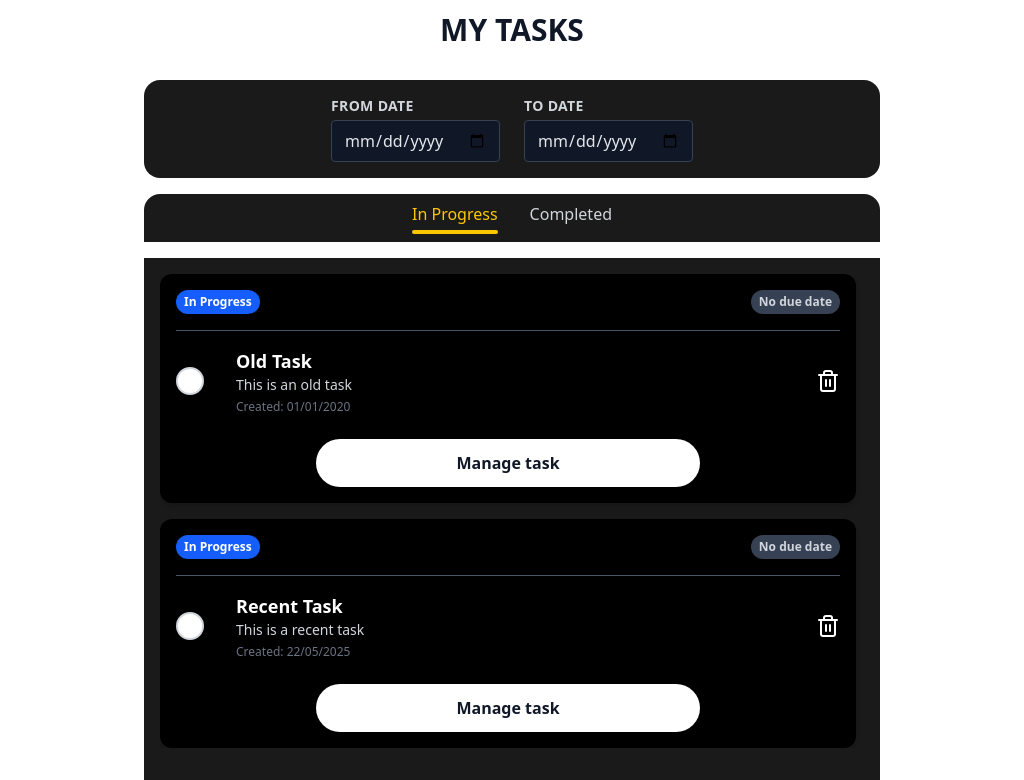
Test: Filters the list by created date
Expected: the heading "Old Task" is shown, [236,349,312,373]
Expected: the heading "Recent Task" is shown, [236,594,343,618]
Type "2020-01-02" into the date field labelled "From Date" at (416, 141), box [331,120,500,162]
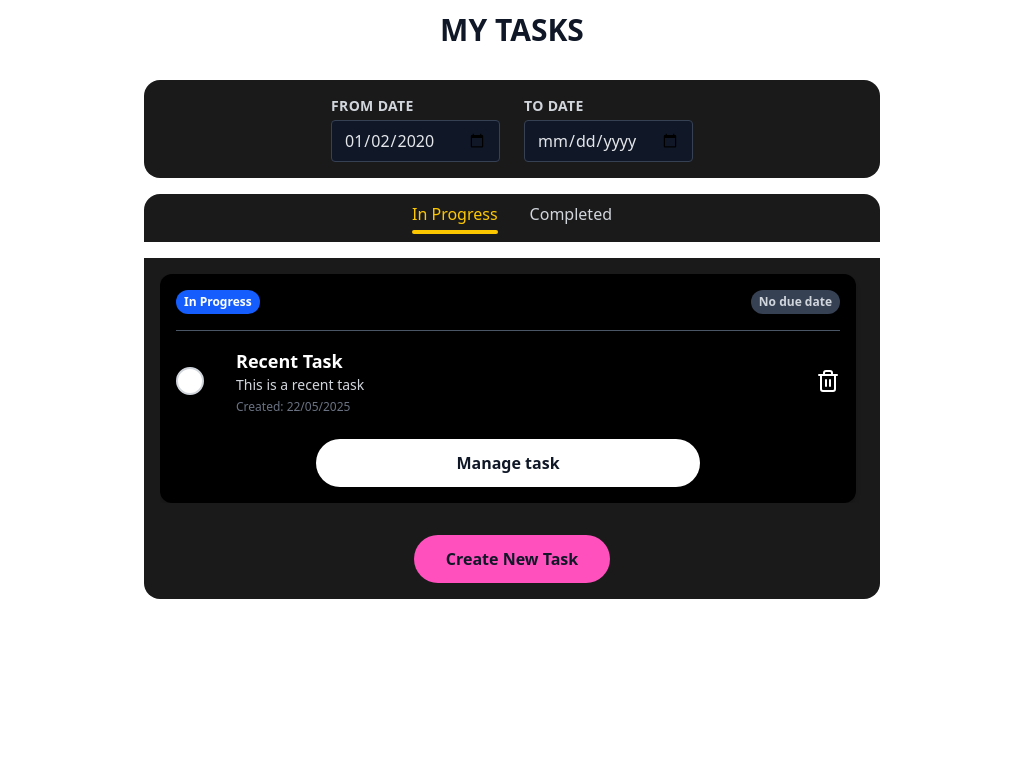
Expected: the heading "Recent Task" is shown, [236,349,343,373]
Now the heading "Old Task" is gone
